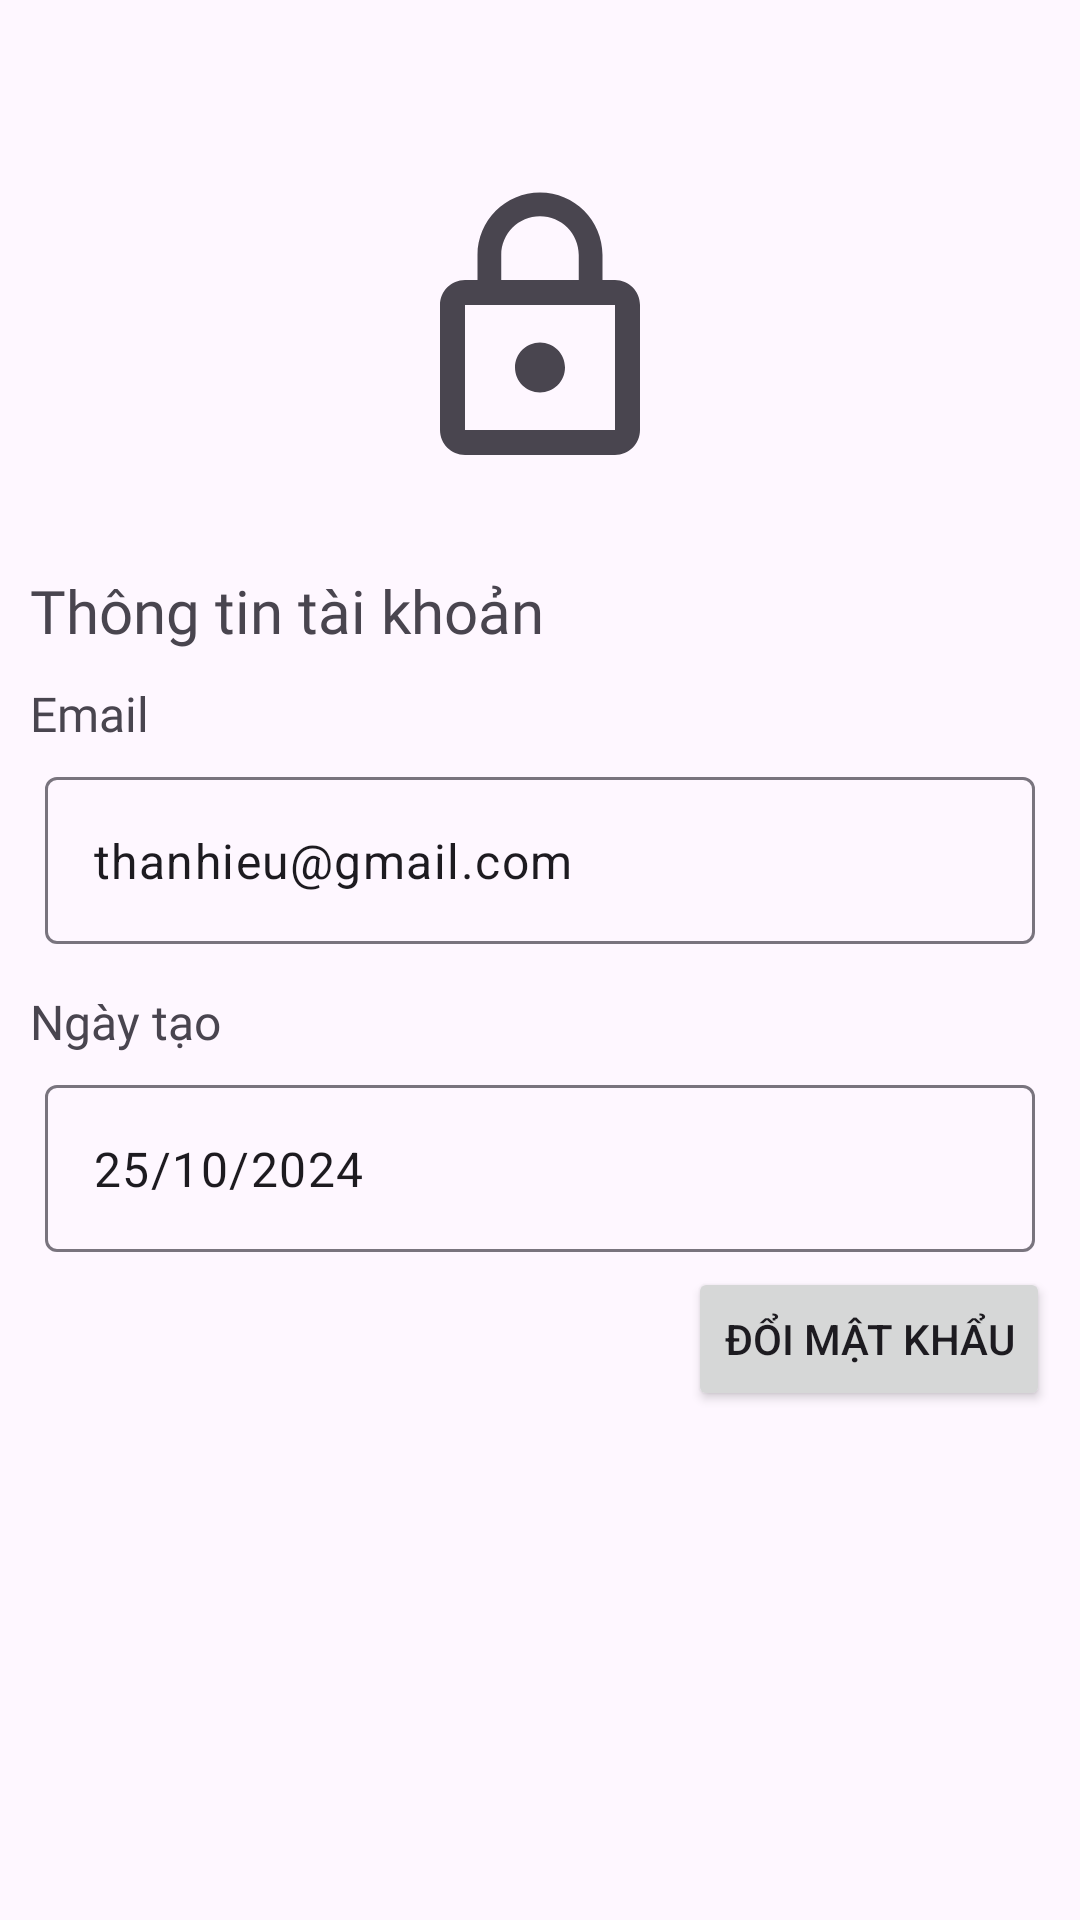

Screen size 1080×1920. Icon name, then its box in pixels as (x1, y1, x2, y2):
privacy: (440, 192, 640, 455)
